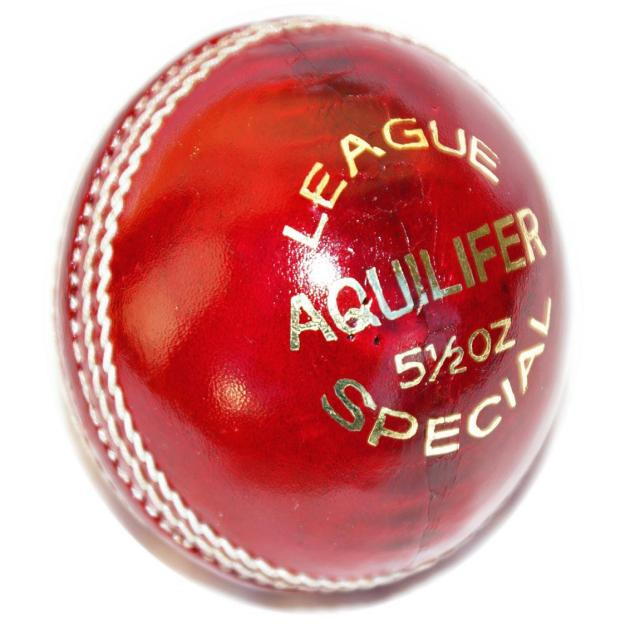ball: (58, 18, 571, 606)
